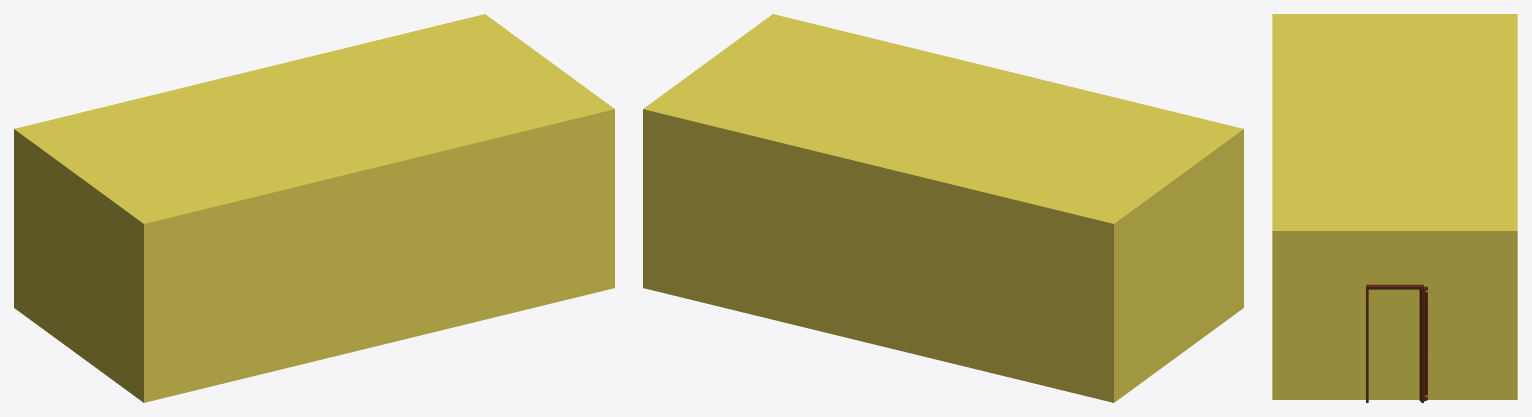
File: Room.fbx
3 views of the same model, side by side, from view 1: azimuth 30°, elevation 25°; view 2: azimuth 150°, elevation 25°; view 3: azimuth 270°, elevation 25° (orthographic). The views are drawn at different scales.
Parts seen in each view (by area): view 1: Room; view 2: Room; view 3: Room, DoorFrame, Door.
Boxes of the visible parts, x1,y1,x2,y2 form: Room: (14,14,614,402); Room: (643,14,1243,402); Room: (1272,14,1517,399); DoorFrame: (1366,284,1423,402); Door: (1419,286,1427,401).
Bounding box in the file's own units: 2006 × 720 × 946.
